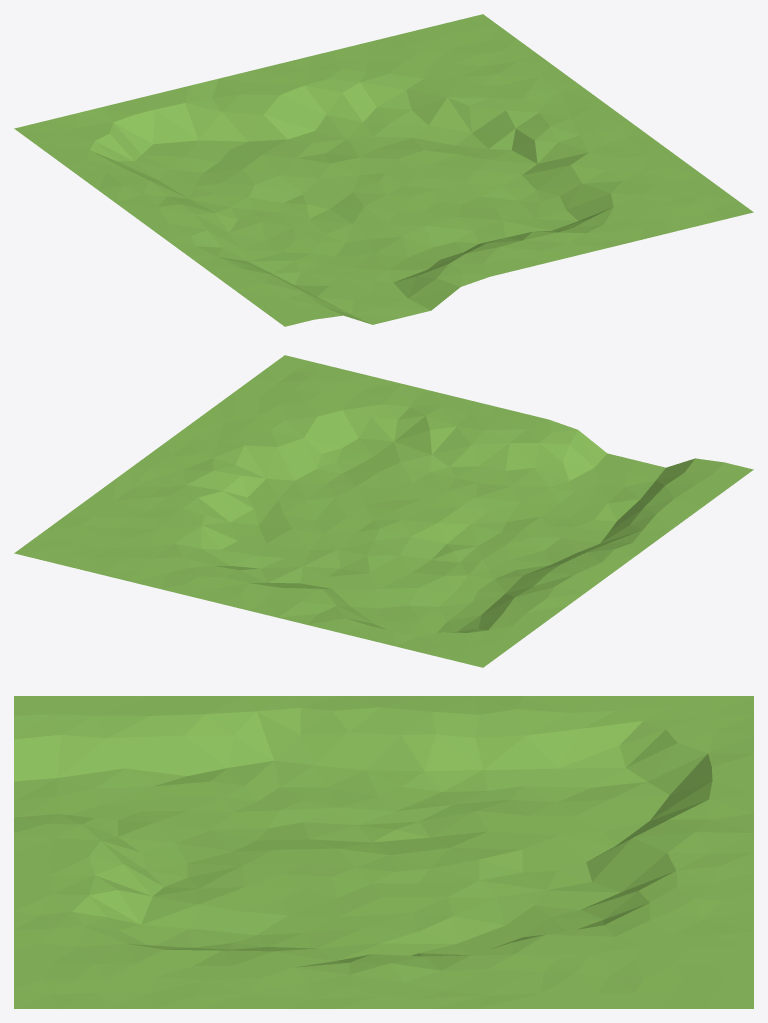
Rendered from MT_River_End_M_a_01_LOD.fbx.
3 views of the same model, one above another, from view 1: azimuth 30°, elevation 25°; view 2: azimuth 150°, elevation 25°; view 3: azimuth 270°, elevation 25° (orthographic). The views are drawn at different scales.
Visible parts, largest first — view 1: MT_River_End_M_a_01_LOD0; view 2: MT_River_End_M_a_01_LOD0; view 3: MT_River_End_M_a_01_LOD0.
Part boxes in pixels (x1,y1,x2,y2): MT_River_End_M_a_01_LOD0: (14, 14, 753, 326); MT_River_End_M_a_01_LOD0: (14, 355, 753, 667); MT_River_End_M_a_01_LOD0: (14, 696, 753, 1008).
Size of what is drawn, in the model's own units: 50 by 2.44 by 50.
